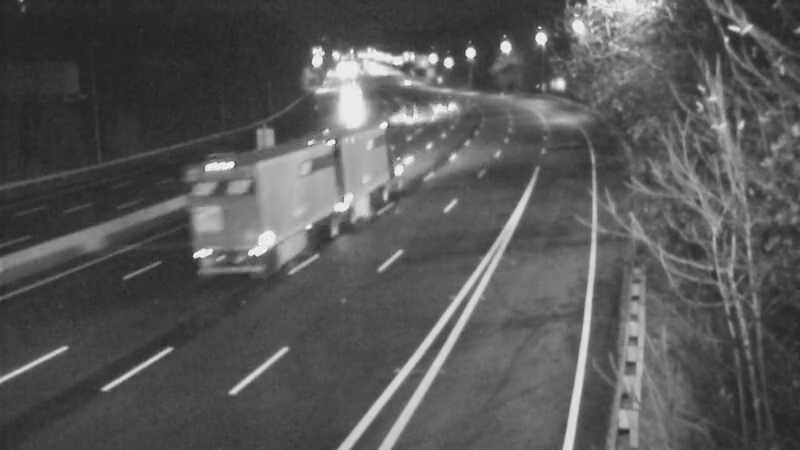vehicle: (272, 137, 352, 217), (379, 59, 429, 109), (423, 75, 473, 125), (374, 96, 424, 146), (320, 75, 370, 125)
